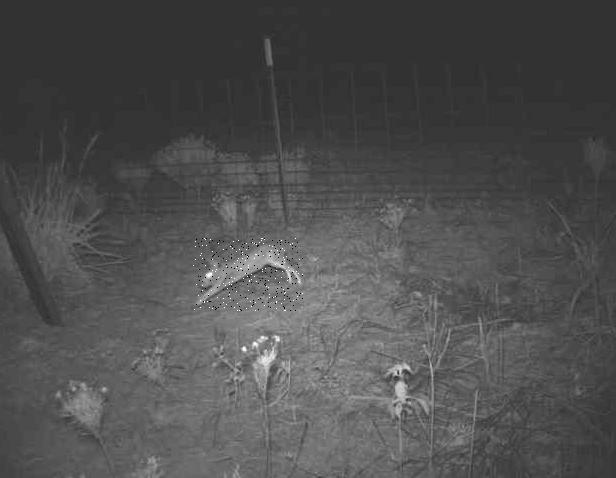Rabbit: (192, 238, 302, 311)
